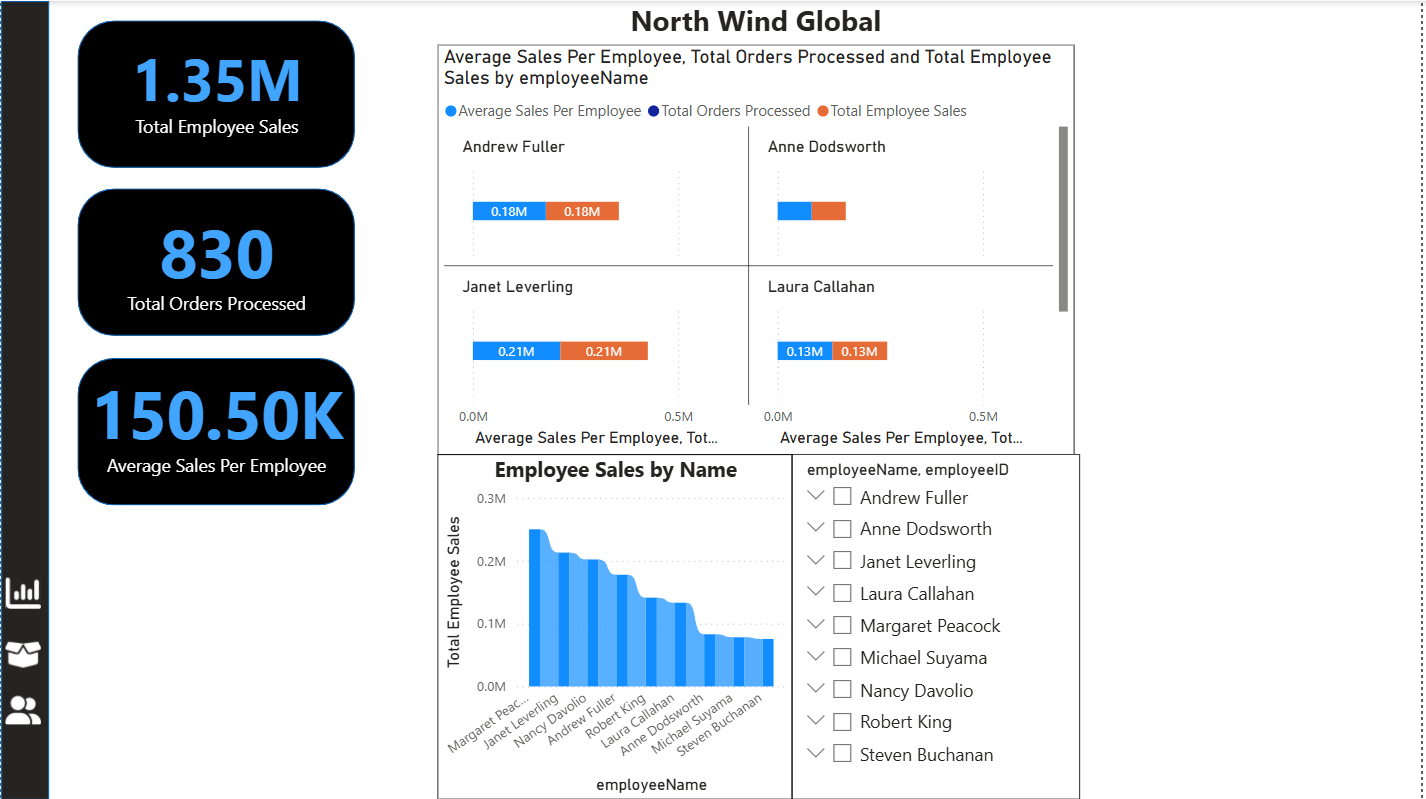

Layout of this report page (visuals, bound fields, positions):
{"tool":"powerbi","page":{"name":"Employee Performance","canvas":[1280,720],"ordinal":2},"visuals":[{"type":"shape","box":[0,0,43.3,720],"z":0},{"type":"textbox","title":"North Wind Global","box":[498.6,0,362.9,38.6],"z":1000},{"type":"shape","box":[68.6,17.1,250,132.9],"z":2000},{"type":"shape","box":[68.6,321.4,250,132.9],"z":3000},{"type":"shape","box":[68.6,168.6,250,132.9],"z":4000},{"type":"card","fields":{"Values":["employees.Total Employee Sales"]},"box":[74.3,17.1,240,121.4],"z":5000},{"type":"card","fields":{"Values":["employees.Total Orders Processed"]},"box":[68.6,158.6,250,151.4],"z":6000},{"type":"card","fields":{"Values":["employees.Average Sales Per Employee"]},"box":[68.6,304.3,250,150],"z":7000},{"type":"barChart","fields":{"Y":["employees.Average Sales Per Employee","employees.Total Orders Processed","employees.Total Employee Sales"],"Rows":["employees.employeeName"]},"box":[392.9,38.6,574.3,370],"z":8000},{"type":"slicer","fields":{"Values":["employees.employeeName","employees.employeeID"]},"box":[712.9,408.6,260,311.4],"z":8001},{"type":"ribbonChart","title":"Employee Sales by Name","fields":{"Y":["employees.Total Employee Sales"],"Category":["employees.employeeName"]},"box":[392.9,408.6,320,311.4],"z":8002},{"type":"actionButton","box":[0,568.6,100,40],"z":8003},{"type":"actionButton","box":[0,618.6,100,40],"z":8004},{"type":"actionButton","box":[0,514.3,100,40],"z":8005}]}

Visuals, with their boxes on the page's 1280x720 design canvas (x1, y1, x2, y2). These are canvas units, not pixel positions in the 1426x799 screenshot, which may show the page scaled, cropped or inside an application window:
shape: BBox(0, 0, 43, 720)
"North Wind Global" textbox: BBox(499, 0, 862, 39)
shape: BBox(69, 17, 319, 150)
shape: BBox(69, 321, 319, 454)
shape: BBox(69, 169, 319, 302)
card - employees.Total Employee Sales: BBox(74, 17, 314, 138)
card - employees.Total Orders Processed: BBox(69, 159, 319, 310)
card - employees.Average Sales Per Employee: BBox(69, 304, 319, 454)
barChart - employees.Average Sales Per Employee x employees.Total Orders Processed: BBox(393, 39, 967, 409)
slicer - employees.employeeName x employees.employeeID: BBox(713, 409, 973, 720)
"Employee Sales by Name" ribbonChart: BBox(393, 409, 713, 720)
actionButton: BBox(0, 569, 100, 609)
actionButton: BBox(0, 619, 100, 659)
actionButton: BBox(0, 514, 100, 554)
